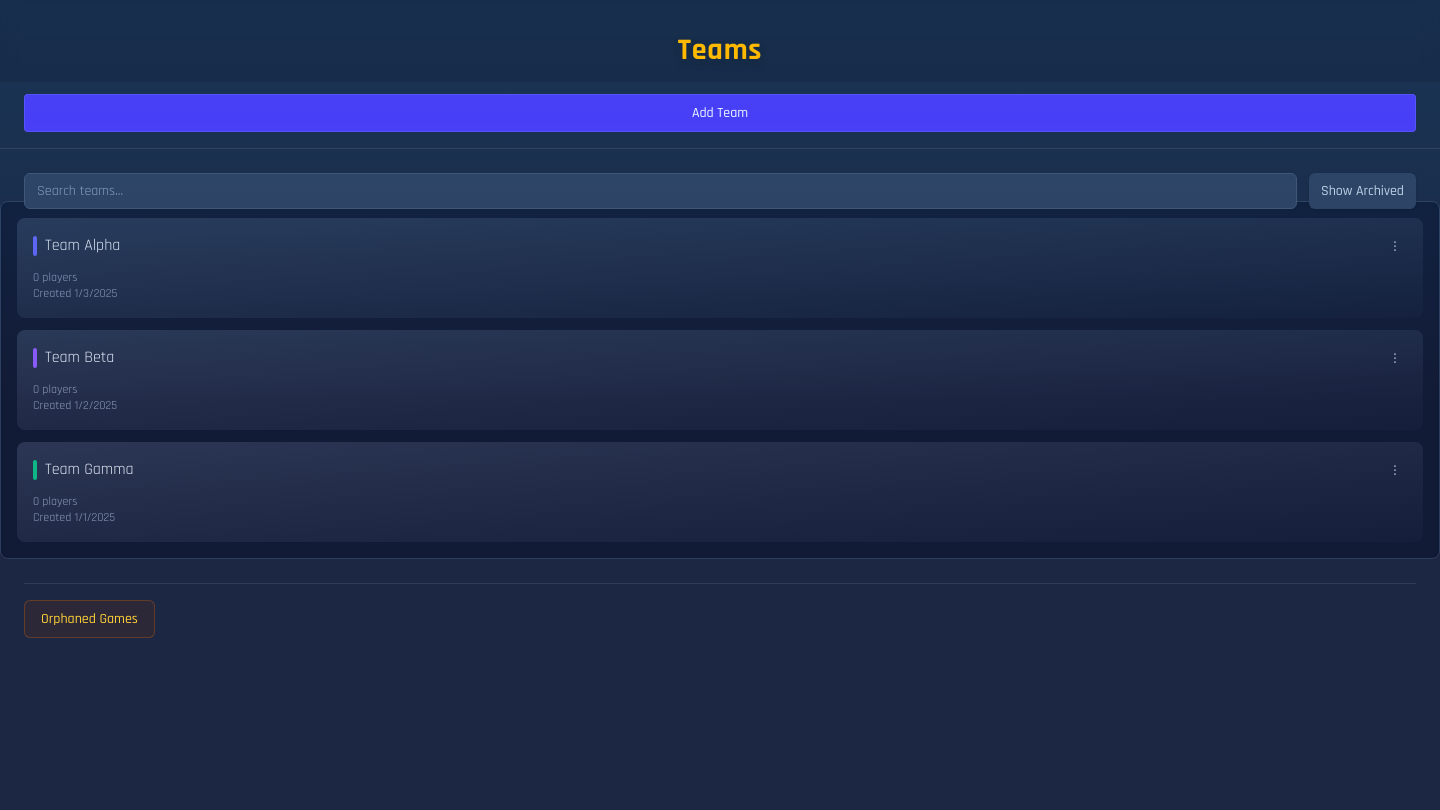
Test: TeamManagerModal › Team Deletion › cancels deletion when Cancel clicked in confirmation
Click the button named "Team actions" in the row of "Team Alpha": coordinates (1395, 246) [1383,234,1407,258]
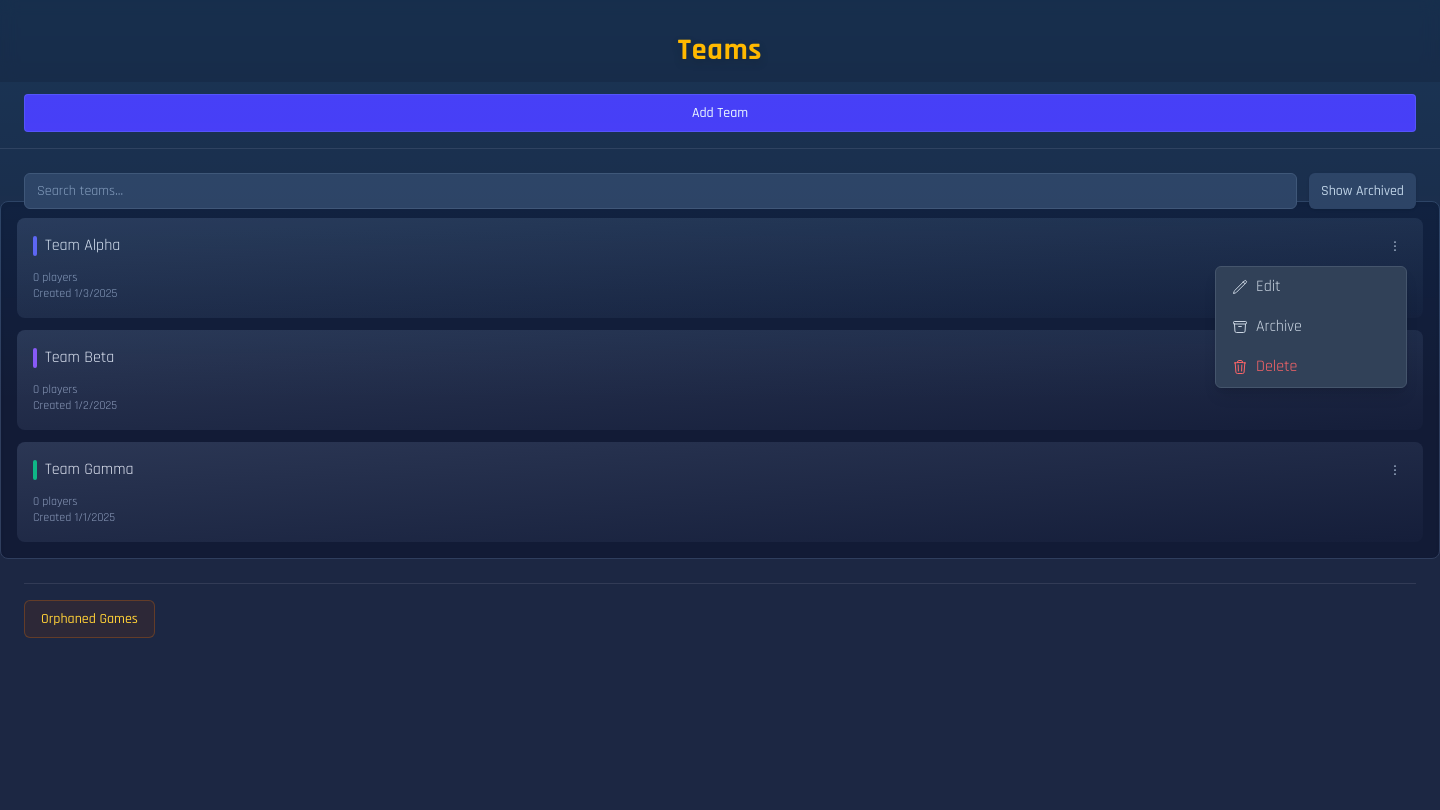
Click the button "Delete": coordinates (1311, 366) [1216,346,1406,386]
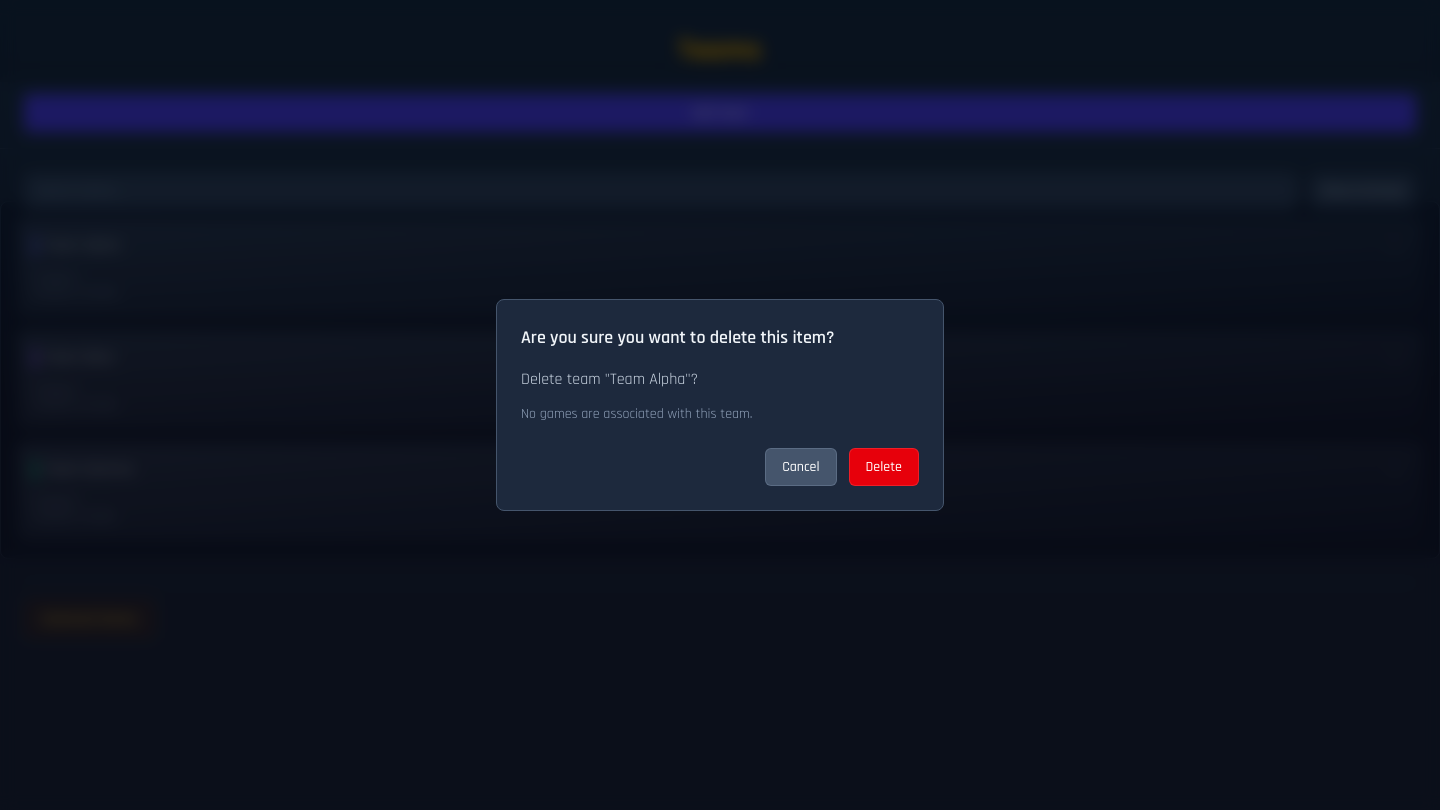
Click the button "Cancel": coordinates (801, 467) [765,448,836,486]
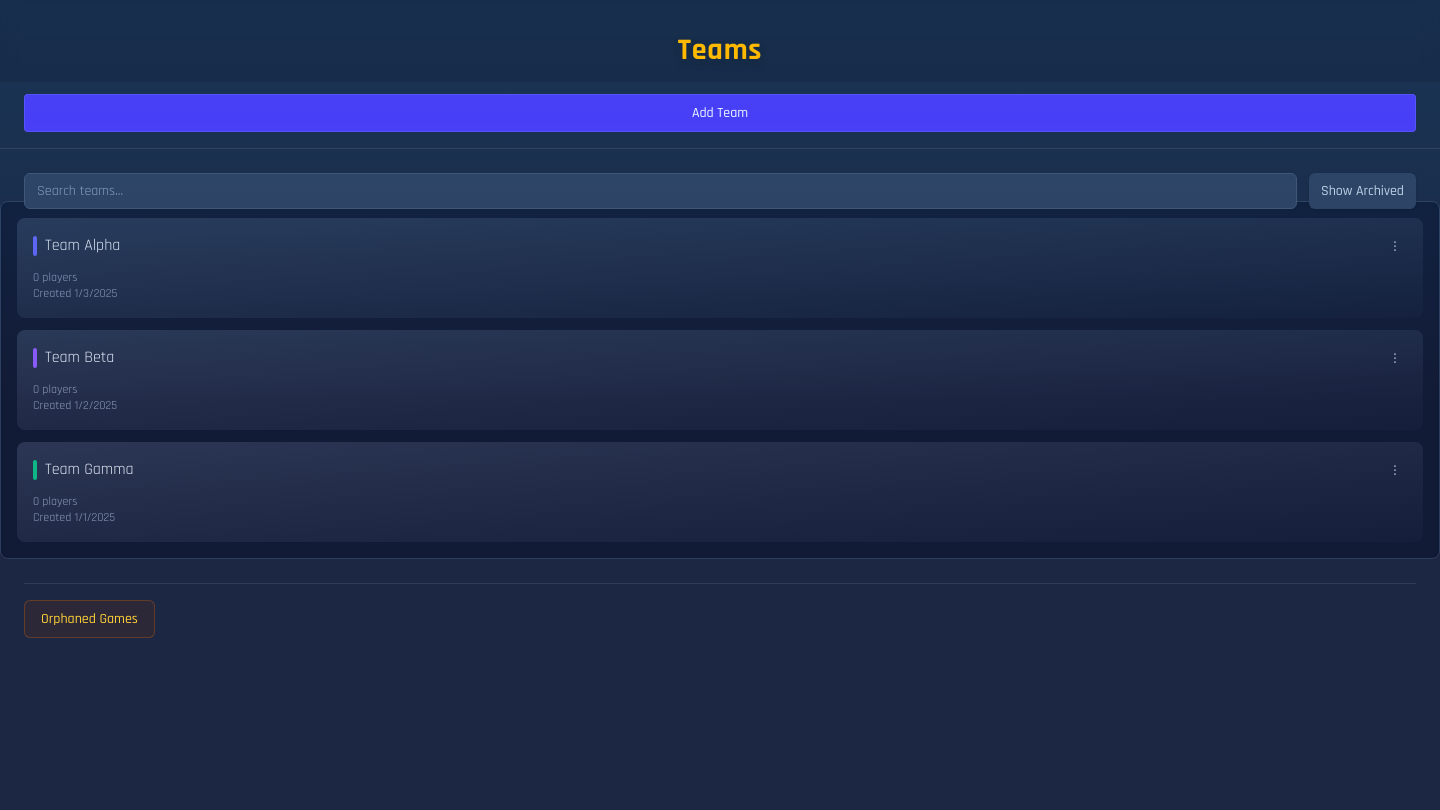
Now the heading "Are you sure you want to delete this item?" is gone
